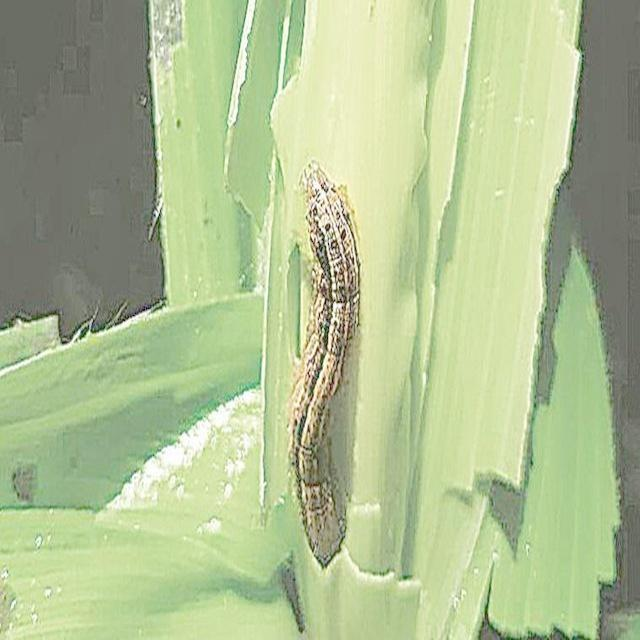worm: (286, 160, 363, 570)
